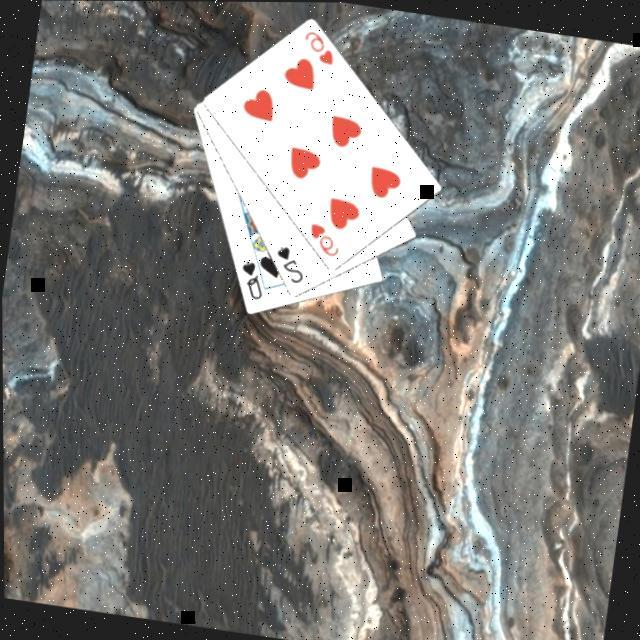2S: (270, 240, 311, 287)
6H: (299, 26, 342, 68), (305, 219, 347, 260)
QS: (235, 255, 271, 303)
